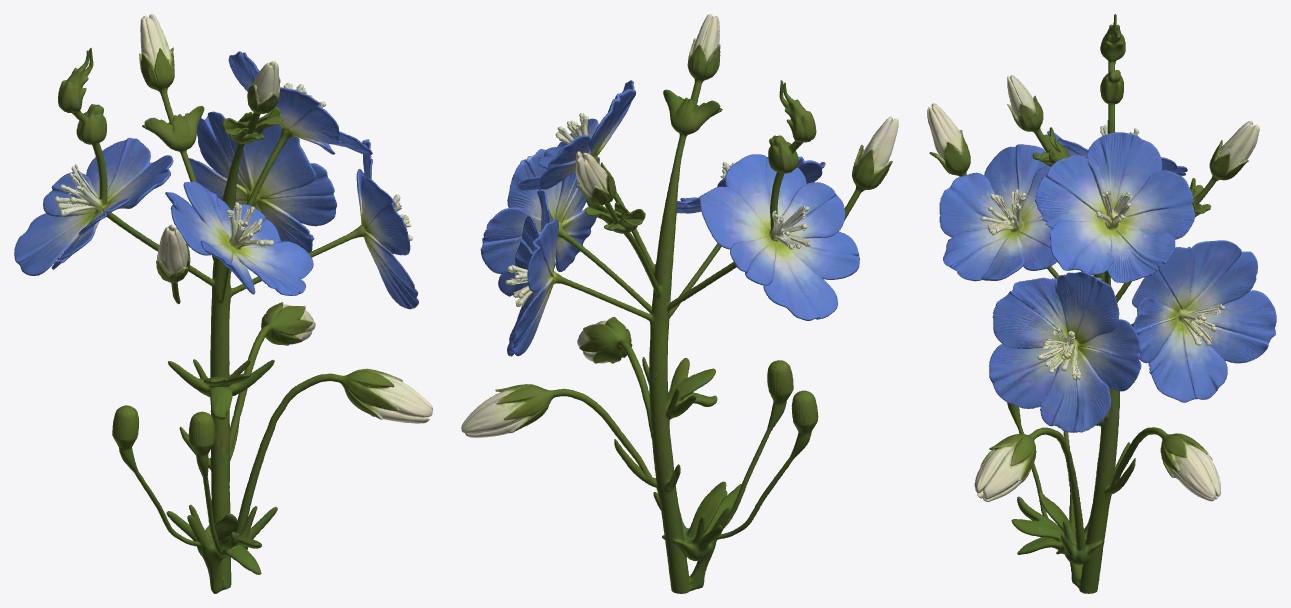
Rendered from YinLianHua_Lan.glb.
The picture shows the model from 3 angles, left to right: view 1: azimuth 30°, elevation 25°; view 2: azimuth 150°, elevation 25°; view 3: azimuth 270°, elevation 25°; orthographic projection. The views are drawn at different scales.
Parts seen in each view (by area): view 1: tripo_node_f2acfd17-816c-43fb-95e9-d3edde0a1afe; view 2: tripo_node_f2acfd17-816c-43fb-95e9-d3edde0a1afe; view 3: tripo_node_f2acfd17-816c-43fb-95e9-d3edde0a1afe.
Part boxes in pixels (x1,y1,x2,y2): tripo_node_f2acfd17-816c-43fb-95e9-d3edde0a1afe: (14,14,432,593); tripo_node_f2acfd17-816c-43fb-95e9-d3edde0a1afe: (461,14,898,593); tripo_node_f2acfd17-816c-43fb-95e9-d3edde0a1afe: (927,14,1276,593).
Size of the model in its own units: 0.651 by 0.9807 by 0.5944.
Materials: 1 (1 with a texture image).
